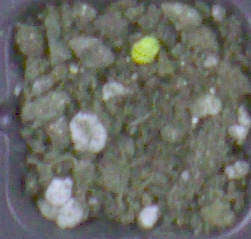pepper seed: (50, 1, 212, 67)
